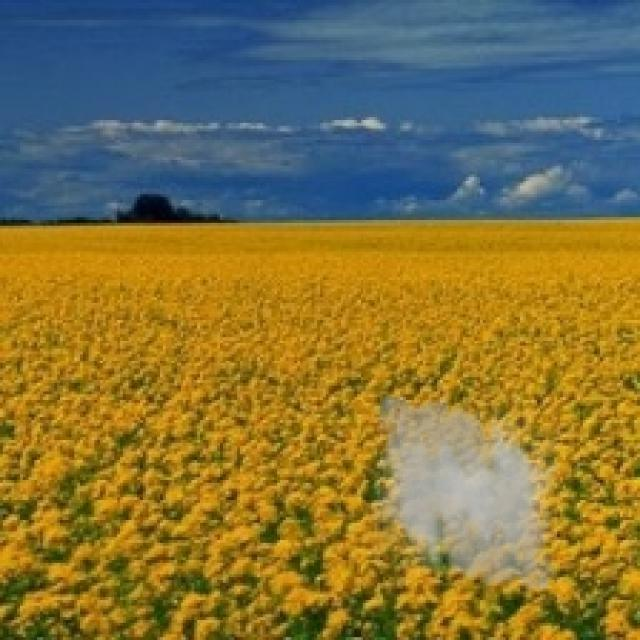Smoke: (357, 386, 569, 600)
